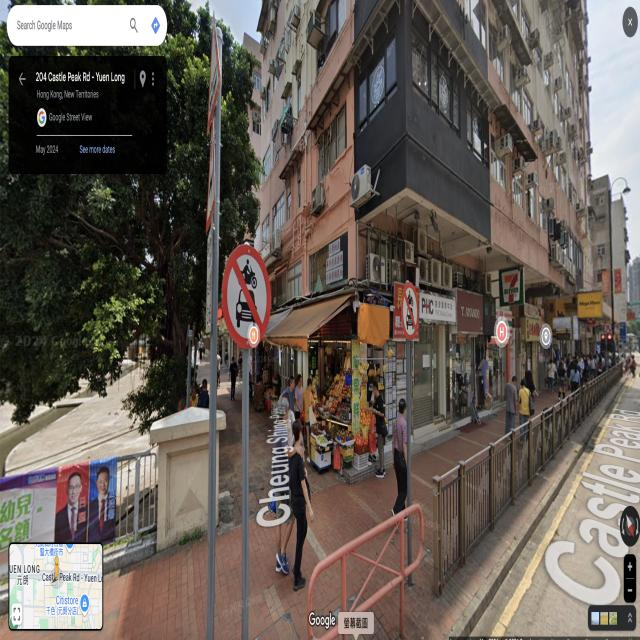Order-Sign: (222, 244, 272, 342), (402, 280, 418, 340), (206, 242, 212, 336)
Warning-Sign: (207, 10, 221, 136), (206, 118, 215, 235)
